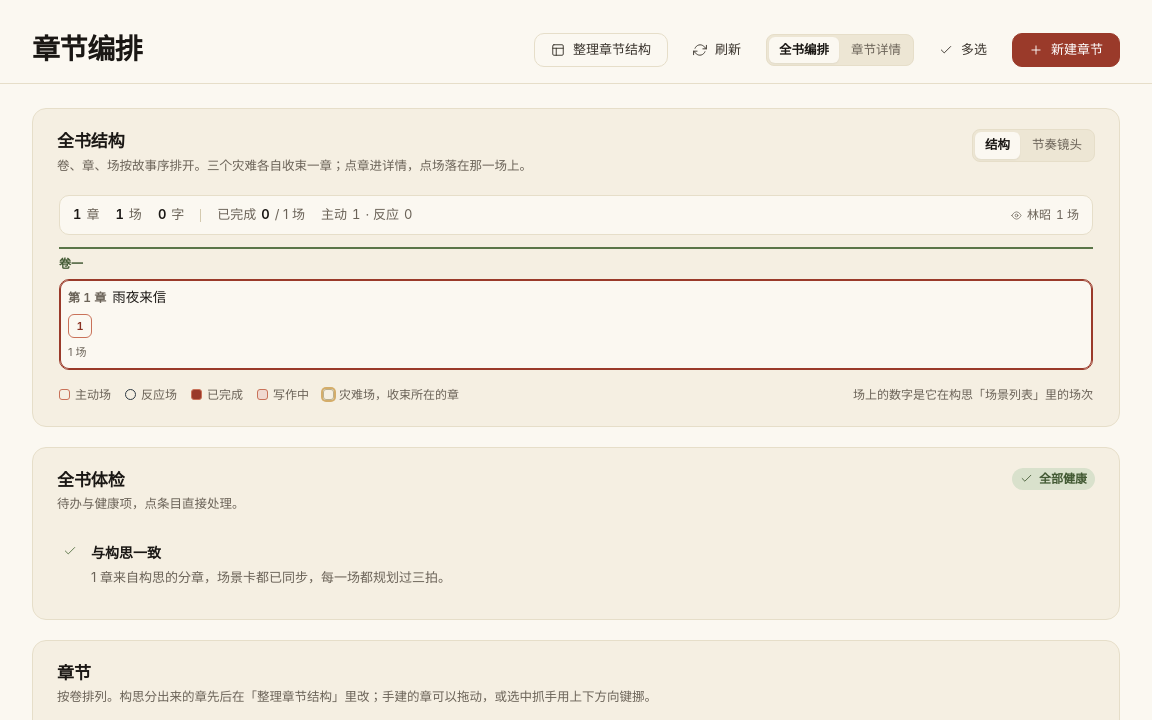
Scenario: 章节编排 · 服务端目录真相 › 「整理章节结构」就在章节编排里开：同一张面板、同一条落库路径，确认后给回执
Click the button with test id "author-open-plan": (601, 50) [534,33,668,67]
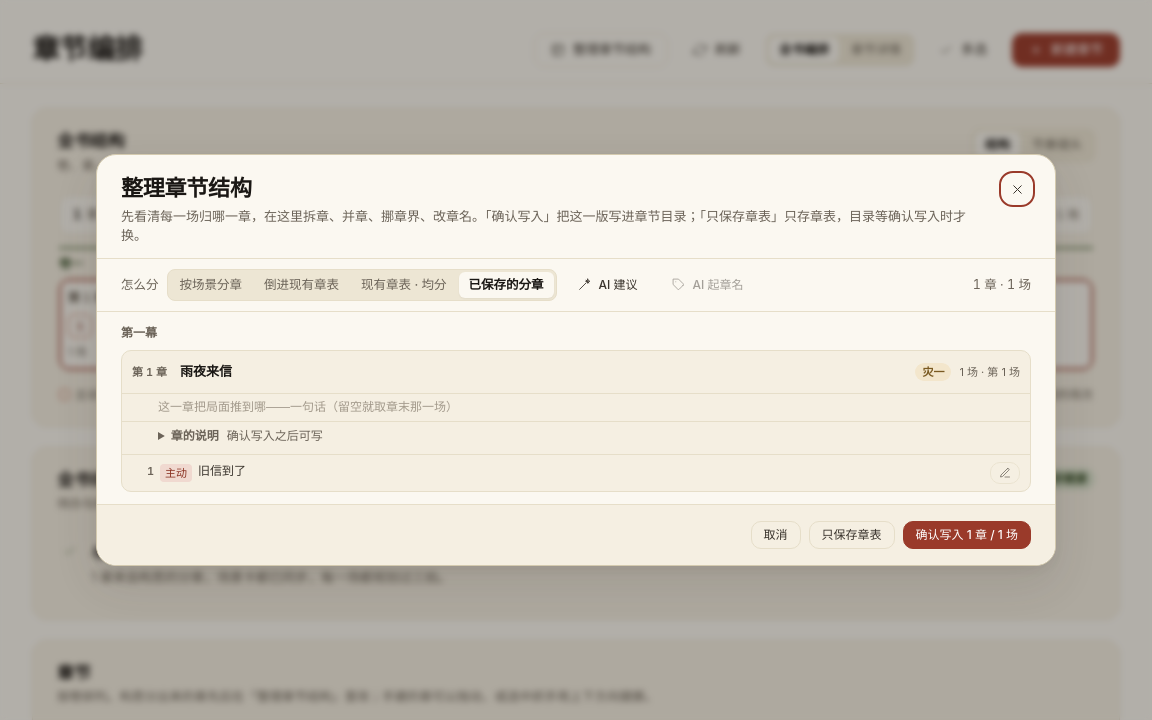
Check: the dialog with test id "chapter-plan-panel" is shown, box [96,154,1056,566]
Check: the dialog with test id "chapter-plan-panel" shows "旧信到了", box [198,463,246,478]
Click the button with test id "chapter-plan-scene-edit-1": (1005, 473) [990,462,1020,484]
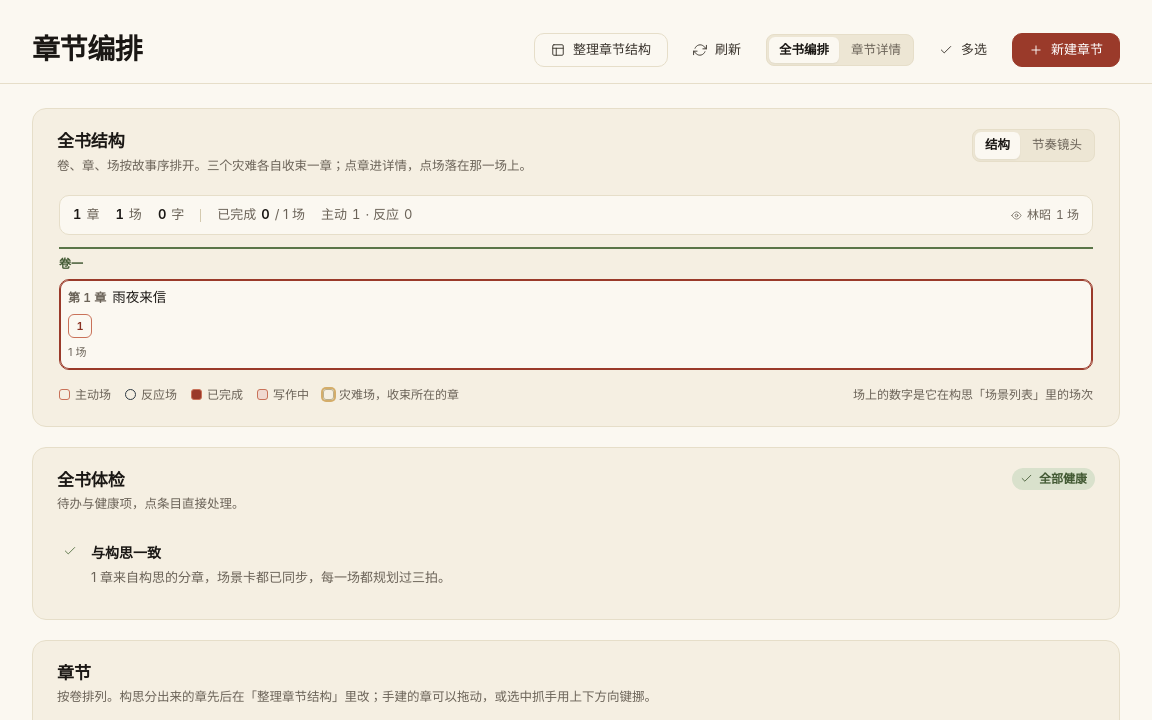
Check: the dialog with test id "chapter-plan-panel" is gone
Click the button with test id "author-open-plan": (601, 50) [534,33,668,67]
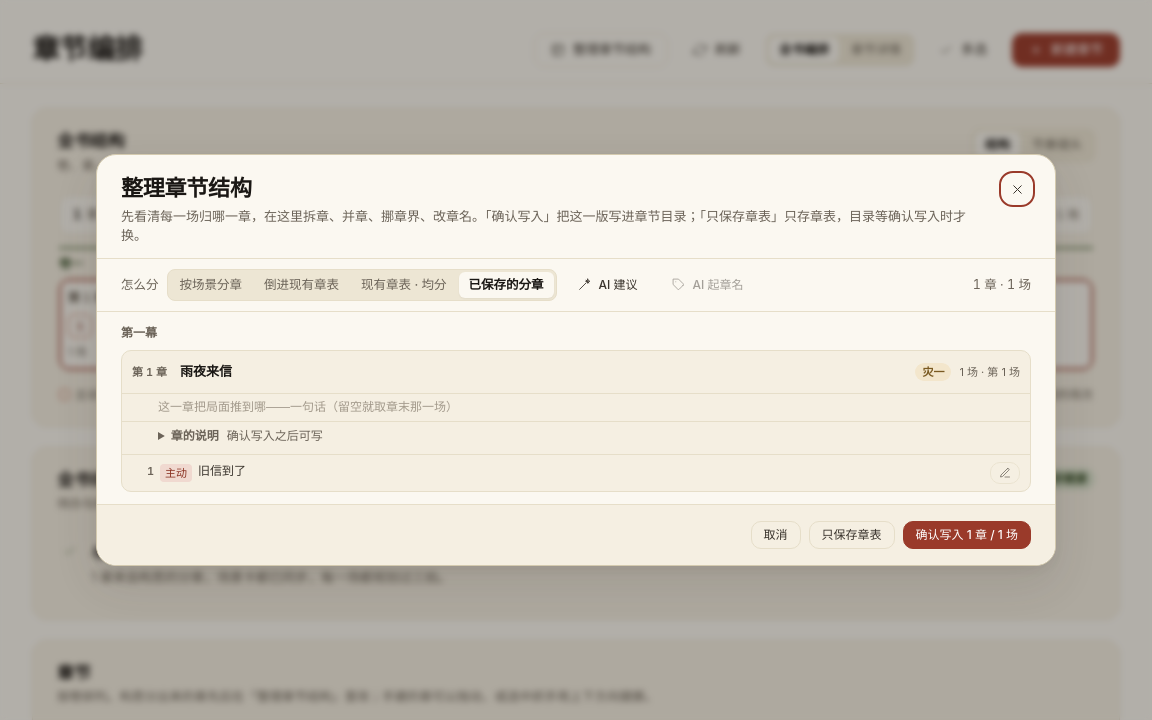
Click the button with test id "chapter-plan-confirm": (967, 535) [903,521,1031,549]
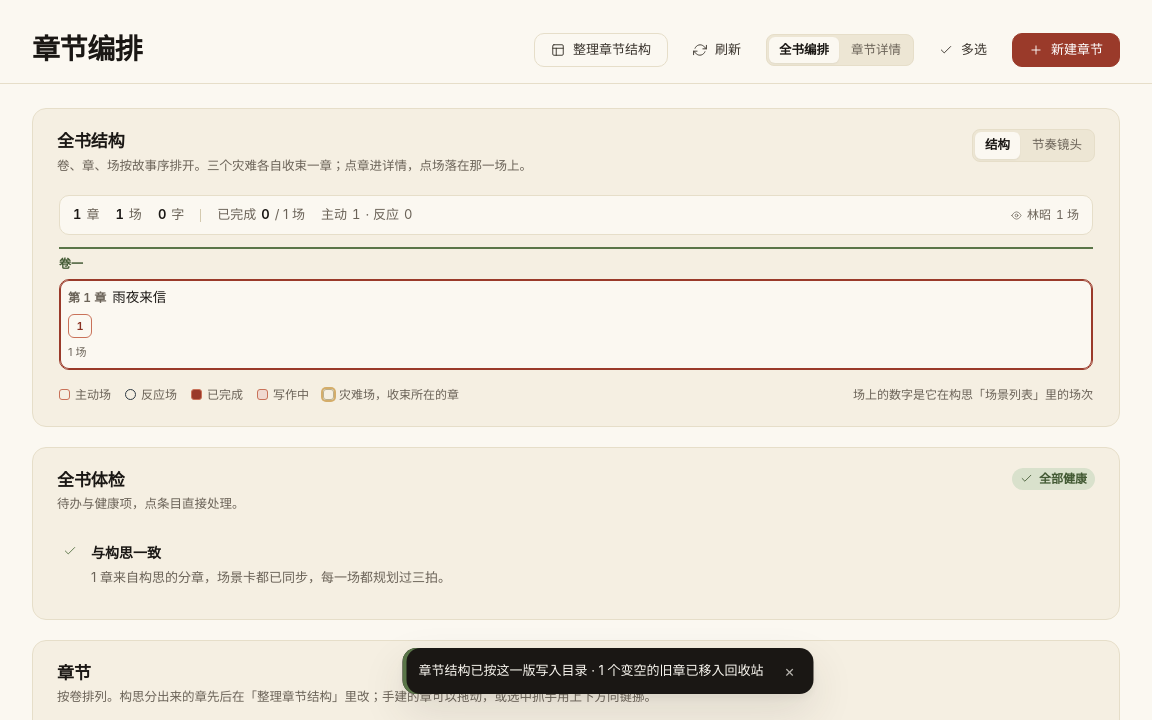
Check: the dialog with test id "chapter-plan-panel" is gone
Check: the message with test id "undo-toast" shows "章节结构已按这一版写入目录 · 1 个变空的旧章已移入回收站", box [418,662,764,678]
